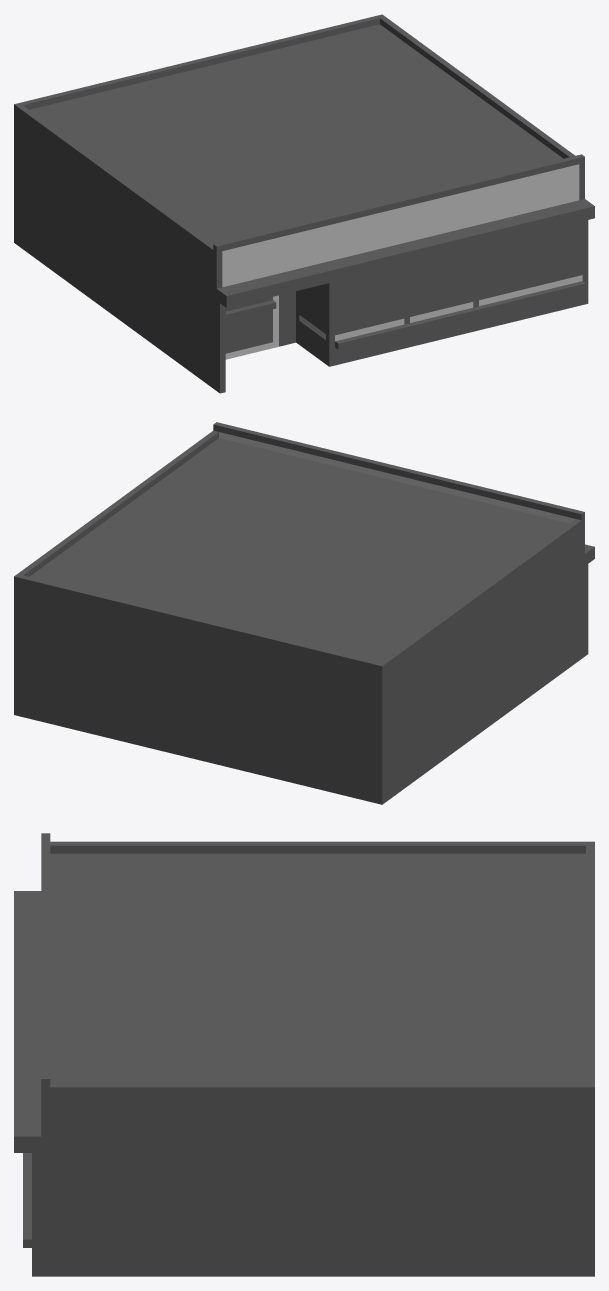
Rendered from bld_store06.obj.
3 views of the same model, one above another, from view 1: azimuth 30°, elevation 25°; view 2: azimuth 150°, elevation 25°; view 3: azimuth 270°, elevation 25° (orthographic). The views are drawn at different scales.
Size of the model in its own units: 64 by 24 by 64.
